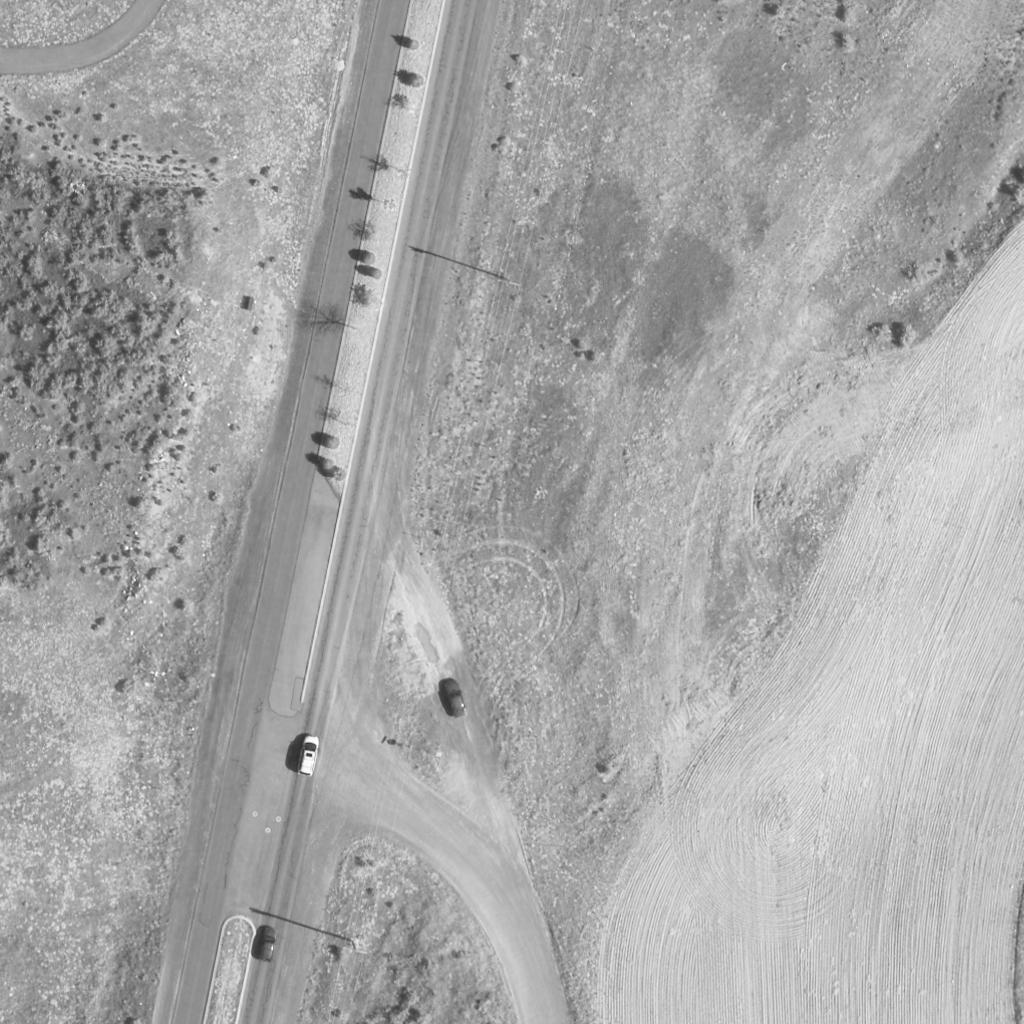vehicle: (438, 679, 470, 719), (298, 734, 322, 780), (257, 927, 277, 963)
